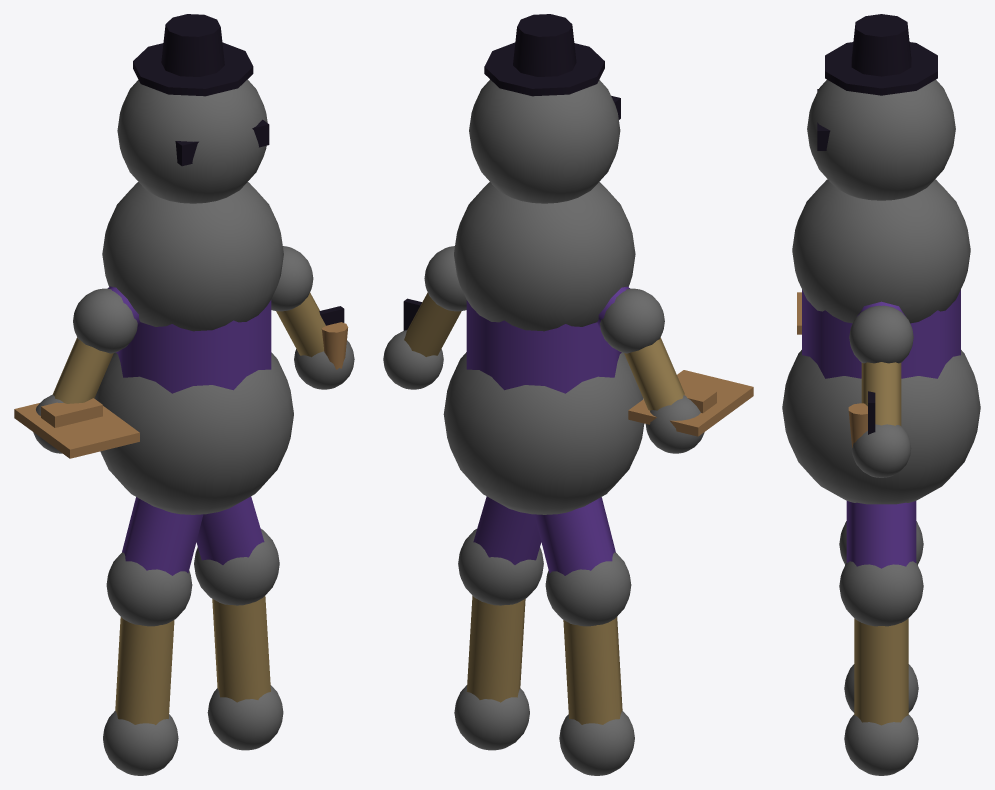
Rendered from ricachon_plantilla_piezas.glb.
3 renders of one model, left to right at view 1: azimuth 30°, elevation 25°; view 2: azimuth 150°, elevation 25°; view 3: azimuth 270°, elevation 25°, orthographic.
Parts seen in each view (by area): view 1: junta_pelvis, junta_pecho, junta_cabeza, rico_torso, rico_pantorrilla_izq, rico_pantorrilla_der, junta_rodilla_izq, rico_muslo_izq, junta_rodilla_der, junta_pie_izq, junta_pie_der, rico_sombrero (+11 smaller); view 2: junta_pelvis, junta_pecho, junta_cabeza, rico_torso, rico_pantorrilla_izq, rico_pantorrilla_der, junta_rodilla_izq, rico_muslo_izq, junta_rodilla_der, junta_pie_izq, junta_pie_der, rico_sombrero (+10 smaller); view 3: junta_pecho, junta_pelvis, junta_cabeza, rico_torso, rico_pantorrilla_der, junta_rodilla_der, rico_muslo_der, junta_pie_der, rico_ala_sombrero, rico_sombrero, junta_codo_der, junta_mano_der (+4 smaller).
Part boxes in pixels (<box>): junta_pelvis: <box>94,352,293,514</box>; junta_pecho: <box>102,182,283,331</box>; junta_cabeza: <box>117,79,267,203</box>; rico_torso: <box>116,300,271,393</box>; rico_pantorrilla_izq: <box>115,617,174,724</box>; rico_pantorrilla_der: <box>212,596,270,702</box>; junta_rodilla_izq: <box>106,552,192,626</box>; rico_muslo_izq: <box>122,497,203,575</box>; junta_rodilla_der: <box>194,529,279,605</box>; junta_pie_izq: <box>103,711,178,775</box>; junta_pie_der: <box>207,685,283,750</box>; rico_sombrero: <box>161,14,224,76</box>; junta_pelvis: <box>443,352,644,514</box>; junta_pecho: <box>454,182,635,331</box>; junta_cabeza: <box>469,79,620,203</box>; rico_torso: <box>466,300,621,393</box>; rico_pantorrilla_izq: <box>563,617,622,724</box>; rico_pantorrilla_der: <box>466,595,525,702</box>; junta_rodilla_izq: <box>545,552,631,626</box>; rico_muslo_izq: <box>534,497,615,575</box>; junta_rodilla_der: <box>458,529,543,605</box>; junta_pie_izq: <box>559,711,634,775</box>; junta_pie_der: <box>454,685,529,750</box>; rico_sombrero: <box>513,14,576,76</box>; junta_pecho: <box>792,179,970,323</box>; junta_pelvis: <box>782,350,980,504</box>; junta_cabeza: <box>807,79,955,200</box>; rico_torso: <box>802,289,960,378</box>; rico_pantorrilla_der: <box>854,618,908,725</box>; junta_rodilla_der: <box>839,561,923,626</box>; rico_muslo_der: <box>846,501,916,568</box>; junta_pie_der: <box>844,714,918,775</box>; rico_ala_sombrero: <box>825,42,937,95</box>; rico_sombrero: <box>851,14,911,76</box>; junta_codo_der: <box>849,305,913,363</box>; junta_mano_der: <box>851,424,911,477</box>.
Bounding box in the file's own units: 0.74 × 1.61 × 0.4.
